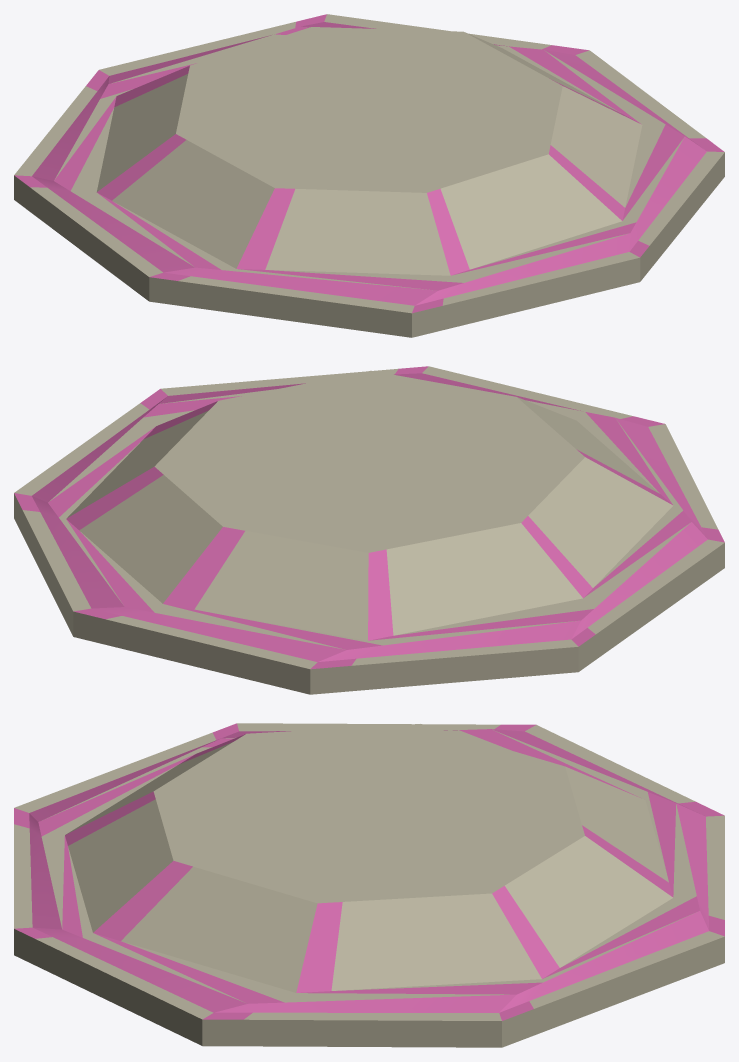
The model's file is TriggerPlate.fbx.
3 renders of one model, top to bottom at view 1: azimuth 30°, elevation 25°; view 2: azimuth 150°, elevation 25°; view 3: azimuth 270°, elevation 25°, orthographic. The views are drawn at different scales.
Parts seen in each view (by area): view 1: PressurePlate.001; view 2: PressurePlate.001; view 3: PressurePlate.001.
Boxes of the visible parts, box(x1,y1,x2,y2) form: PressurePlate.001: box(14, 14, 724, 337); PressurePlate.001: box(14, 366, 724, 694); PressurePlate.001: box(14, 723, 724, 1047).
Bounding box in the file's own units: 90.83 × 90.04 × 11.99.
